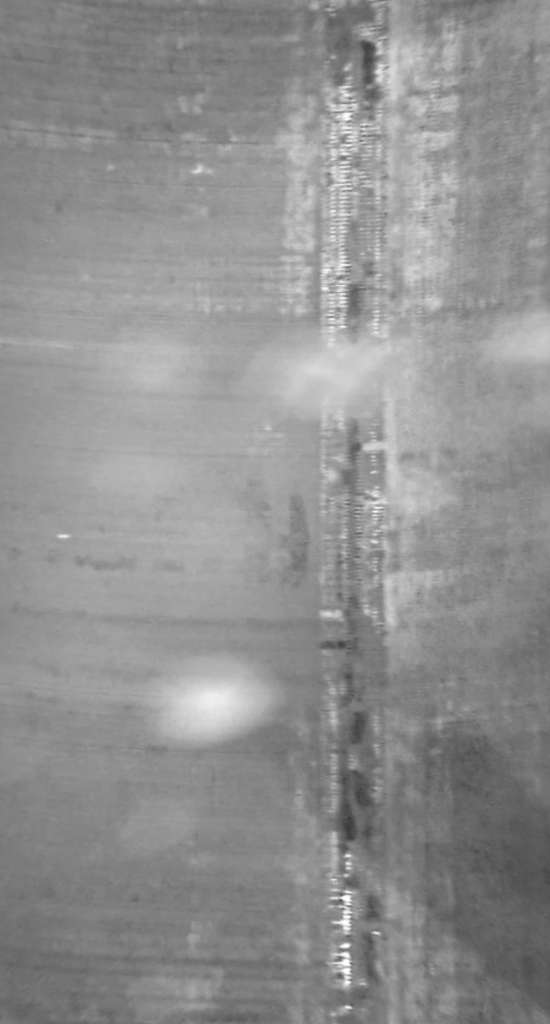splice: (314, 5, 402, 1024)
